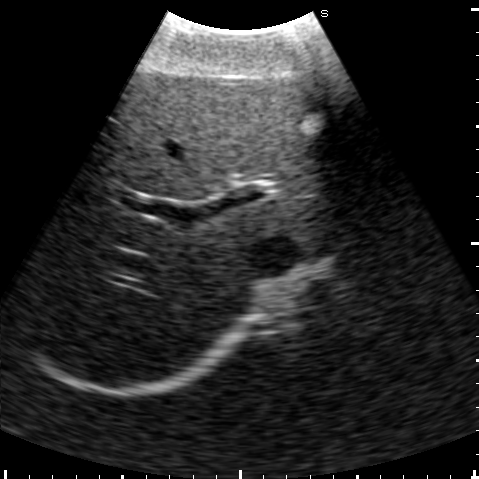IVC: (243, 236, 301, 277)
S1: (244, 200, 343, 254)
S3: (233, 68, 345, 194)
S4: (101, 74, 287, 200)
Tumor: (299, 115, 325, 135)
